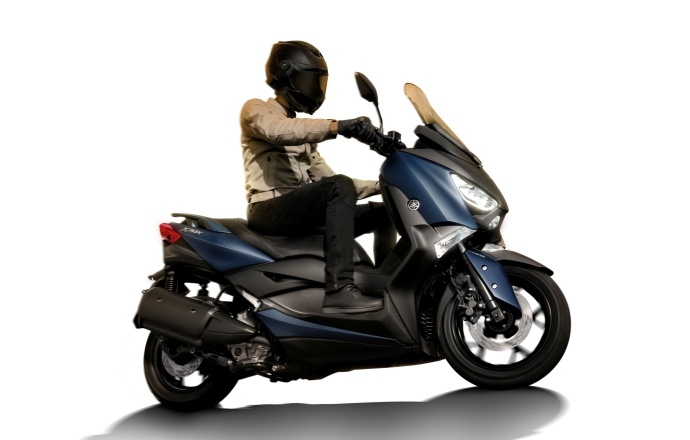helmet: (265, 40, 327, 114)
motorcycle: (132, 71, 575, 413)
